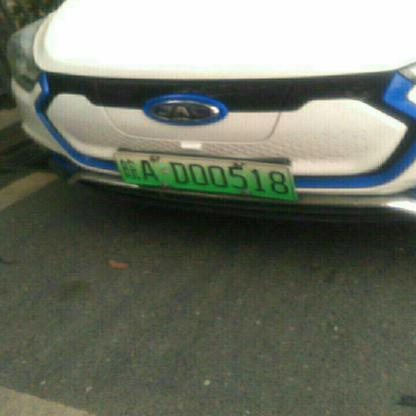lp: (112, 153, 295, 200)
